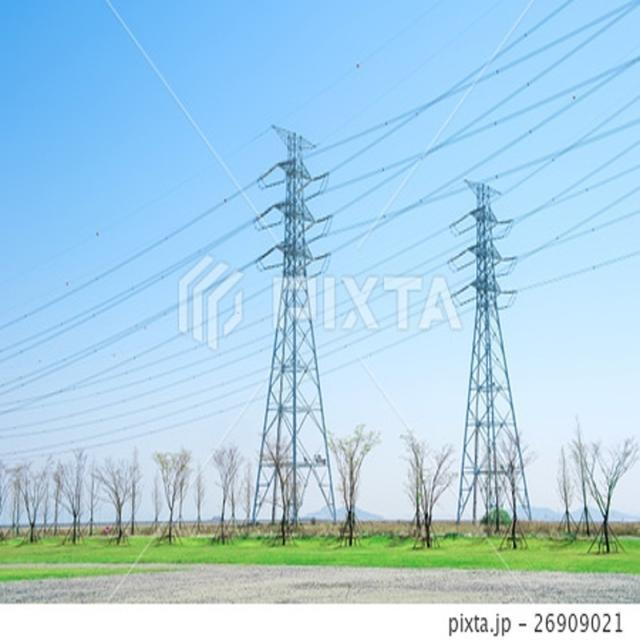non-critical vegetation: (248, 128, 354, 538), (449, 181, 540, 528)
